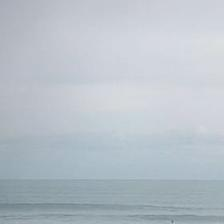surfer: (171, 219, 174, 224)
